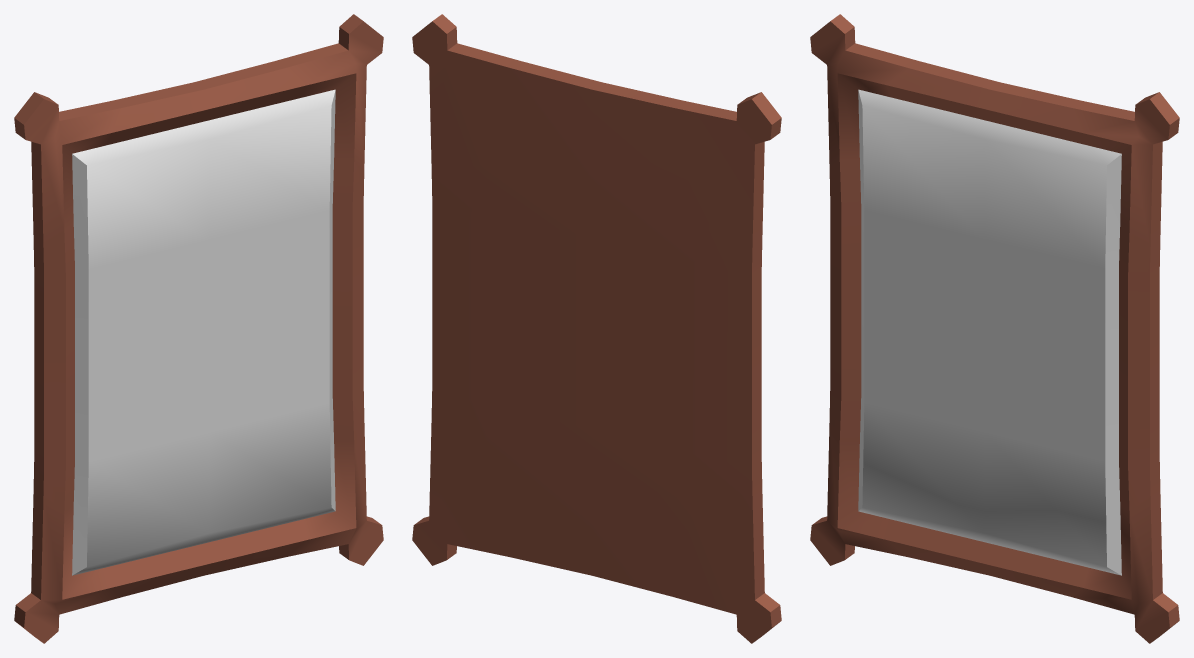
File: painting.fbx
3 renders of one model, left to right at view 1: azimuth 30°, elevation 25°; view 2: azimuth 150°, elevation 25°; view 3: azimuth 330°, elevation 25°, orthographic.
Visible parts, largest first — view 1: painting; view 2: painting; view 3: painting.
Boxes of the visible parts, bbox=[...] form: painting: bbox=[14, 14, 383, 643]; painting: bbox=[412, 14, 781, 643]; painting: bbox=[810, 14, 1179, 643].
Size of the model in its own units: 1.44 by 2.09 by 0.1133.
